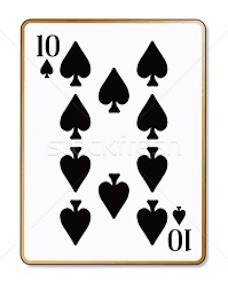TenOfSpades: (17, 12, 211, 269)
